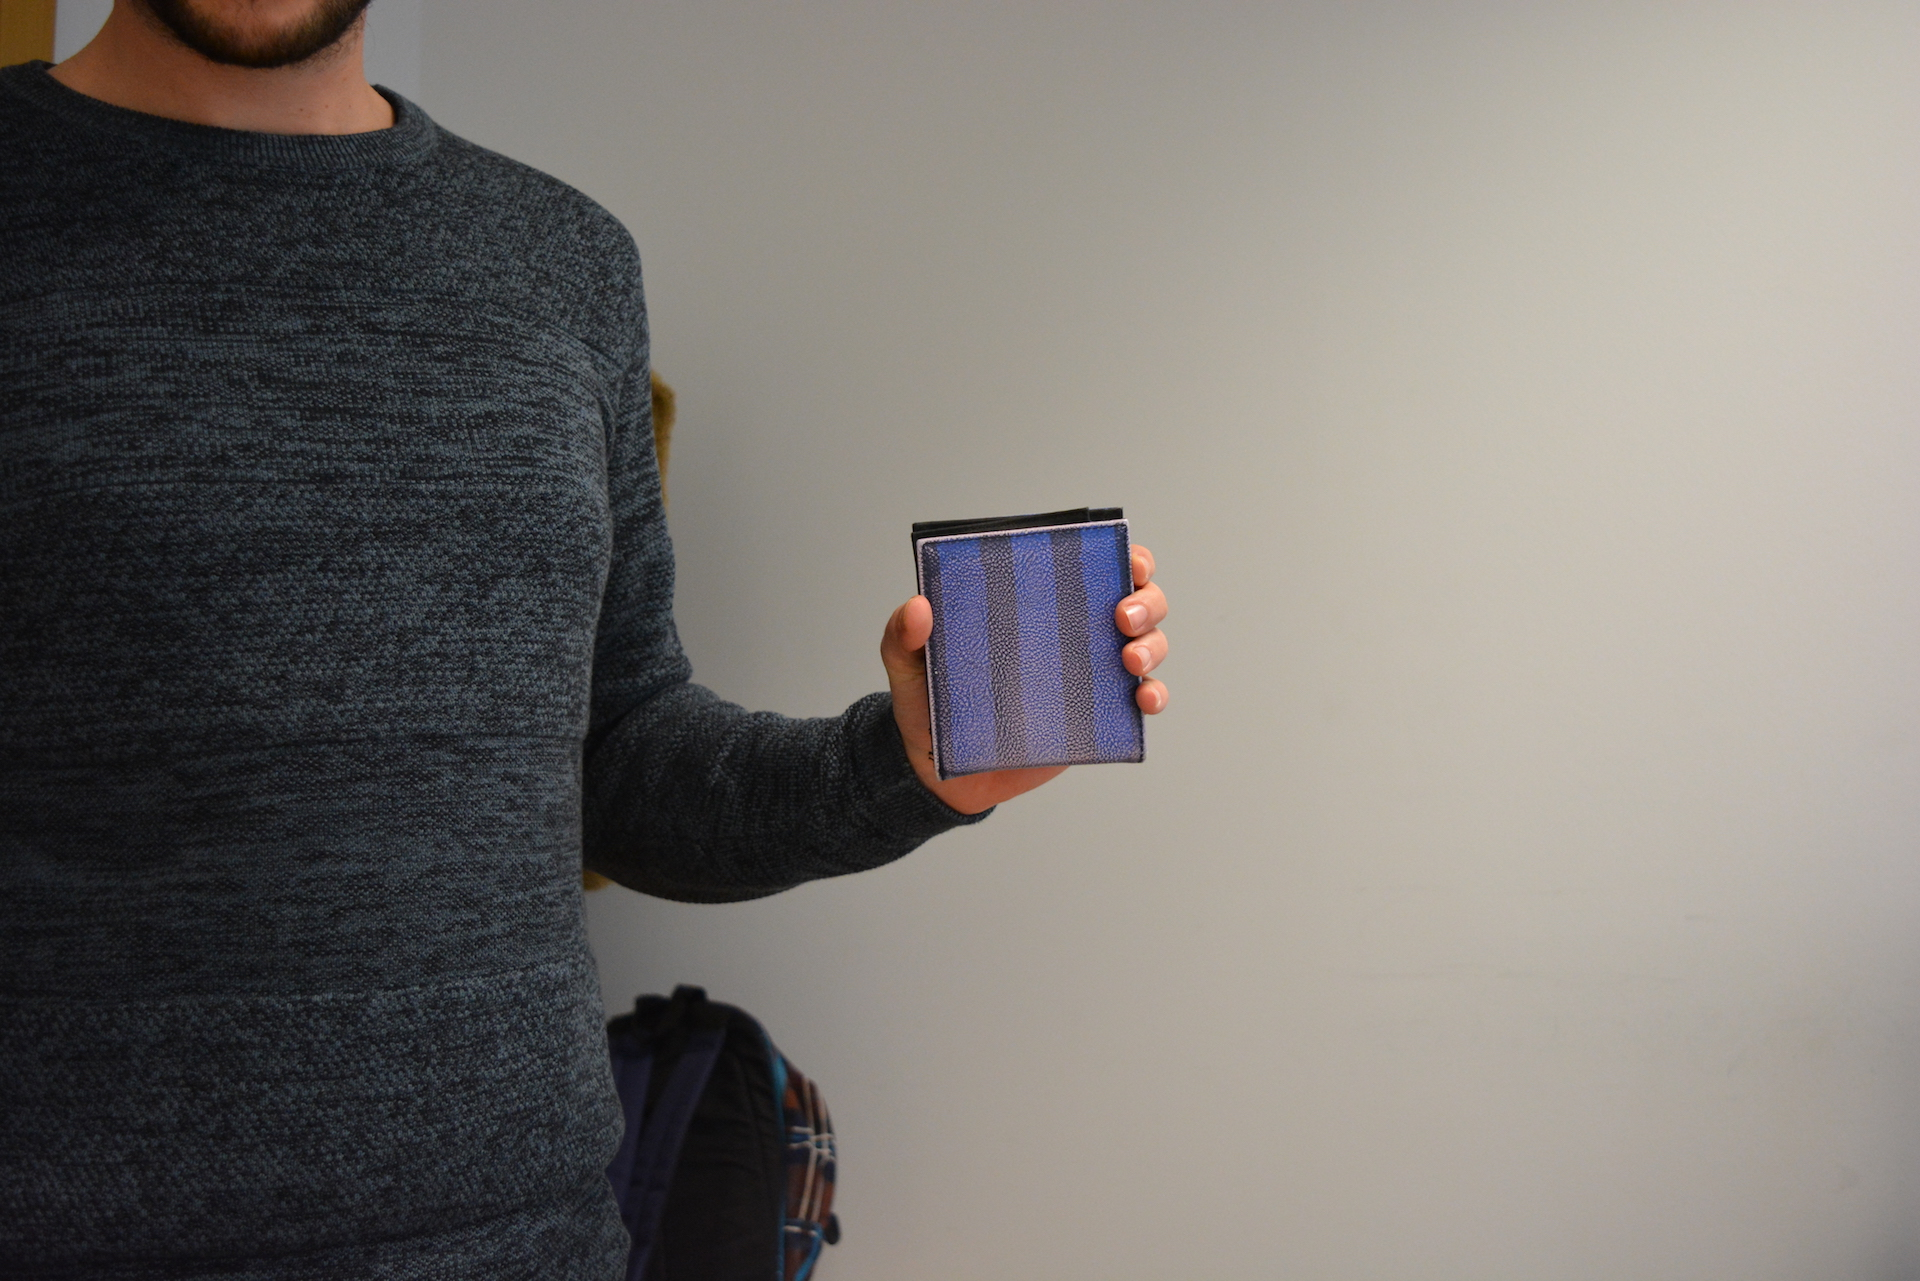monedero: (909, 505, 1149, 783)
